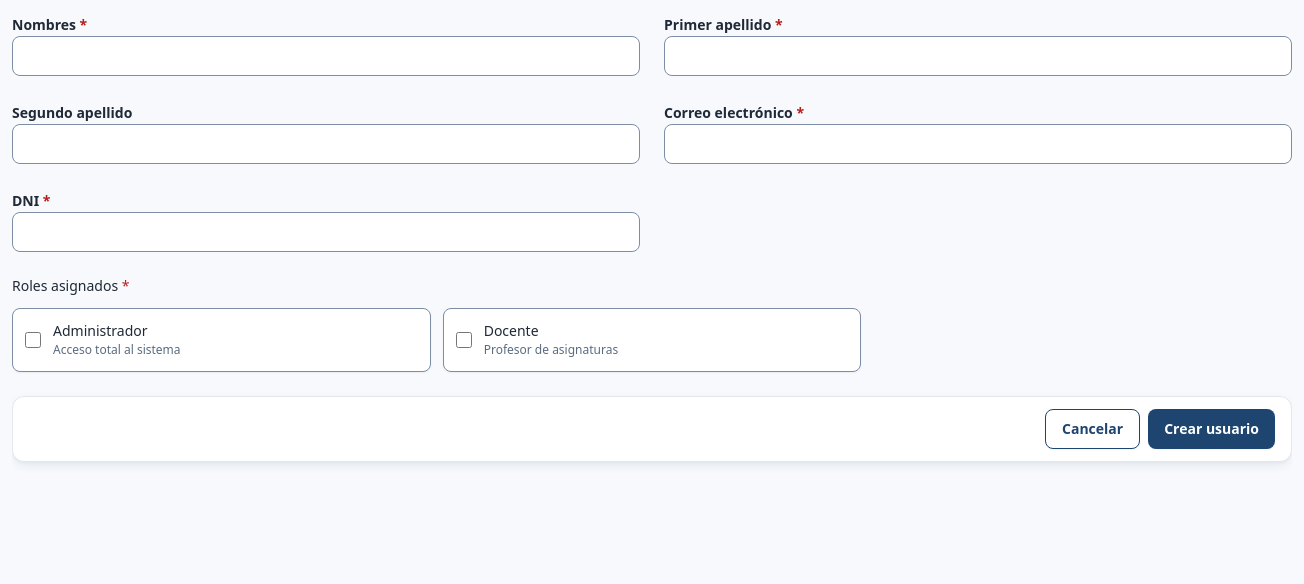
it: UserForm component (T-003-27) › shows required and format errors in spanish, links aria-describedby and focuses the first invalid field
Expected: the text "Administrador" is shown, 53,321 -> 148,340
Click the button "Crear usuario": {"x": 1212, "y": 429} 1148,409 -> 1275,449
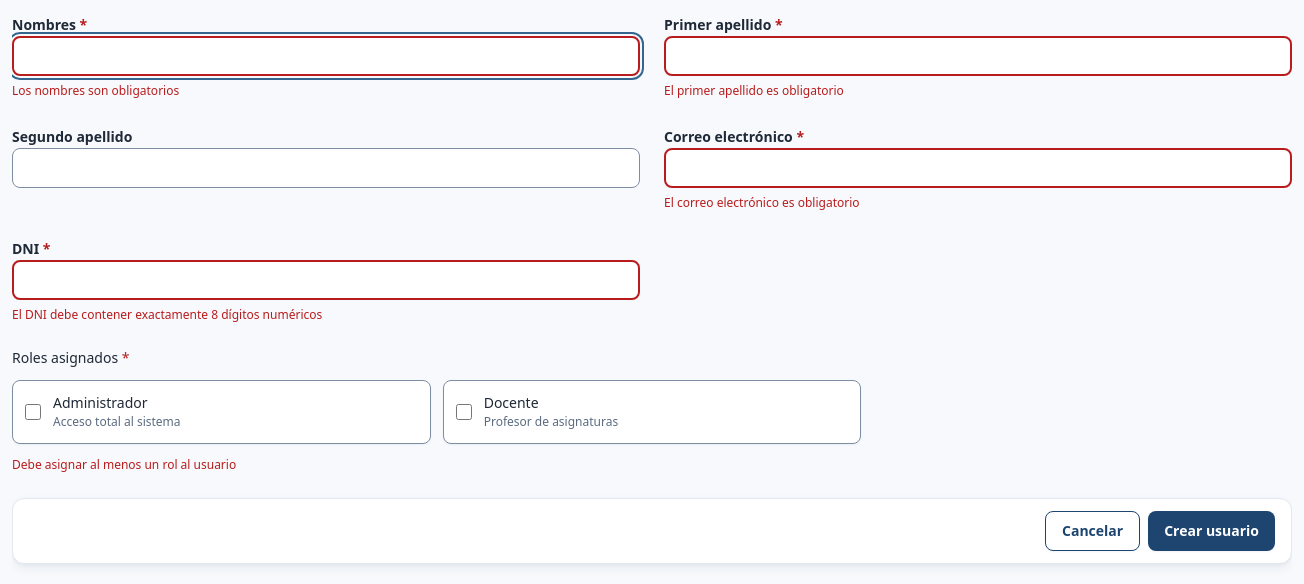
Result: the text "Los nombres son obligatorios" is shown at 12,82 -> 179,99
Result: the text "El primer apellido es obligatorio" is shown at 664,82 -> 844,99
Result: the text "El correo electrónico es obligatorio" is shown at 664,194 -> 860,211
